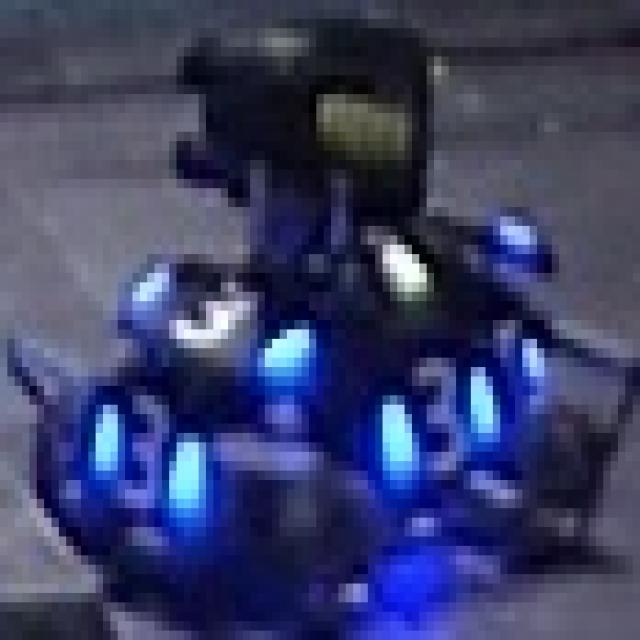B3: (353, 311, 530, 498), (66, 367, 206, 546), (122, 226, 306, 358)
